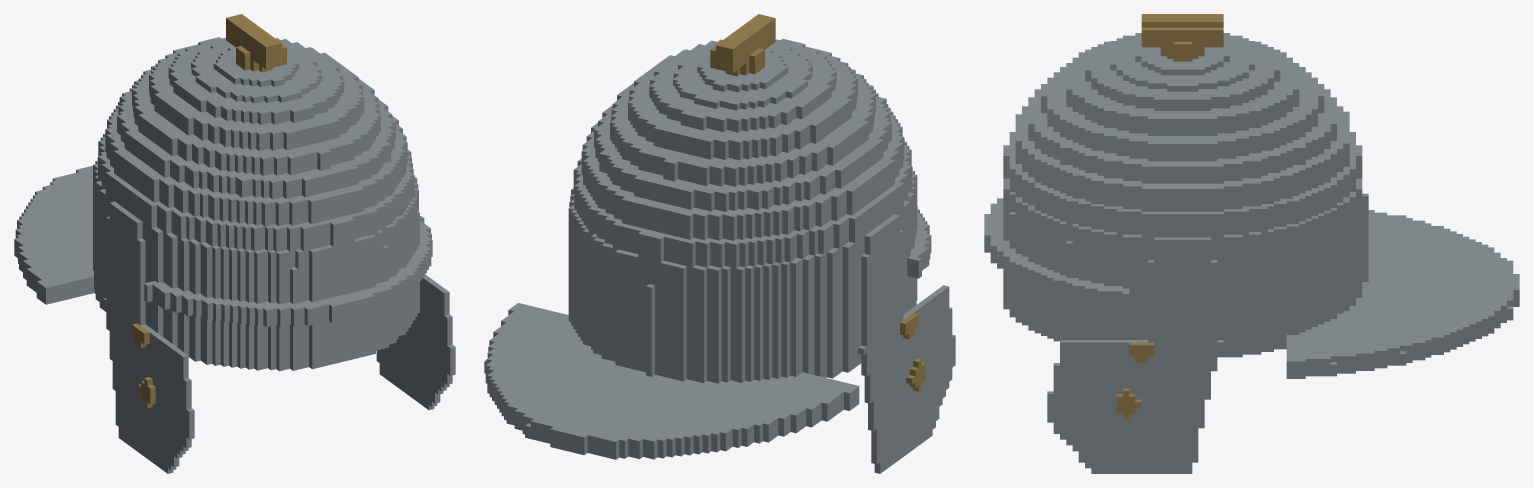
Rendered from helmet_galea.glb.
The picture shows the model from 3 angles, left to right: view 1: azimuth 30°, elevation 25°; view 2: azimuth 150°, elevation 25°; view 3: azimuth 270°, elevation 25°; orthographic projection. The views are drawn at different scales.
Visible parts, largest first — view 1: helmet_galea:compound; view 2: helmet_galea:compound; view 3: helmet_galea:compound.
Part boxes in pixels (x1=…): helmet_galea:compound: x1=14, y1=14, x2=455, y2=473; helmet_galea:compound: x1=484, y1=14, x2=955, y2=473; helmet_galea:compound: x1=984, y1=14, x2=1519, y2=473.
Bounding box in the file's own units: 0.24 × 0.272 × 0.34.
